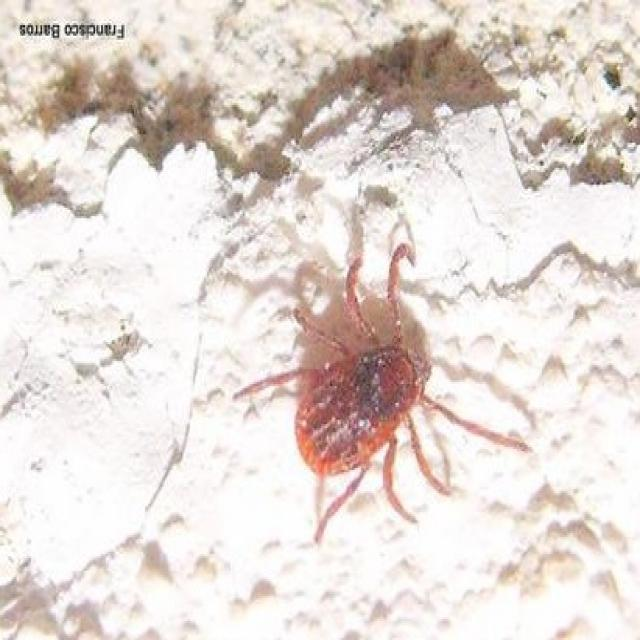Rhipicephalus Sanguineus-F: (234, 243, 531, 546)
